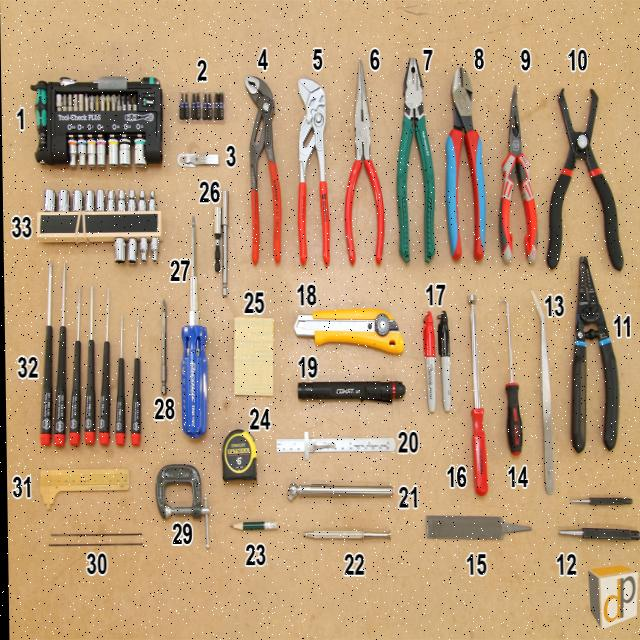Screwdriver: (180, 218, 207, 439), (467, 294, 487, 497), (500, 300, 521, 456), (39, 262, 52, 446), (53, 262, 65, 445), (68, 287, 80, 445), (97, 289, 109, 444), (84, 287, 95, 444), (130, 315, 140, 446), (114, 315, 124, 445)
